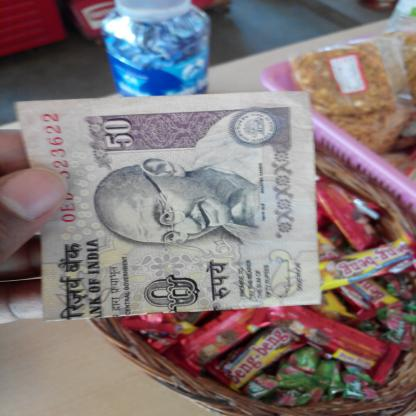Old50Front: (15, 90, 321, 323)
